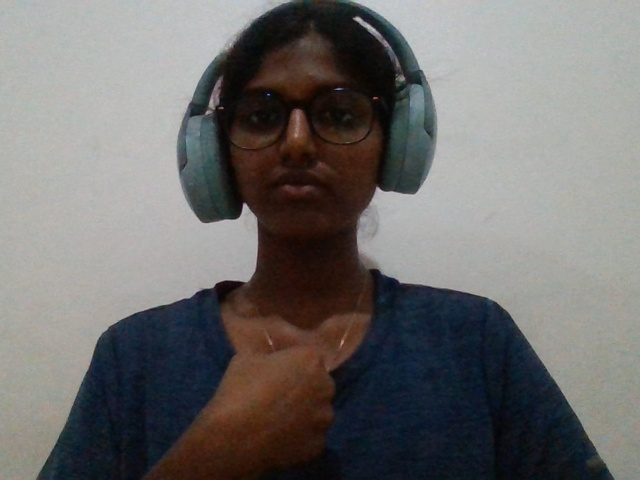Me: (187, 334, 376, 480)
